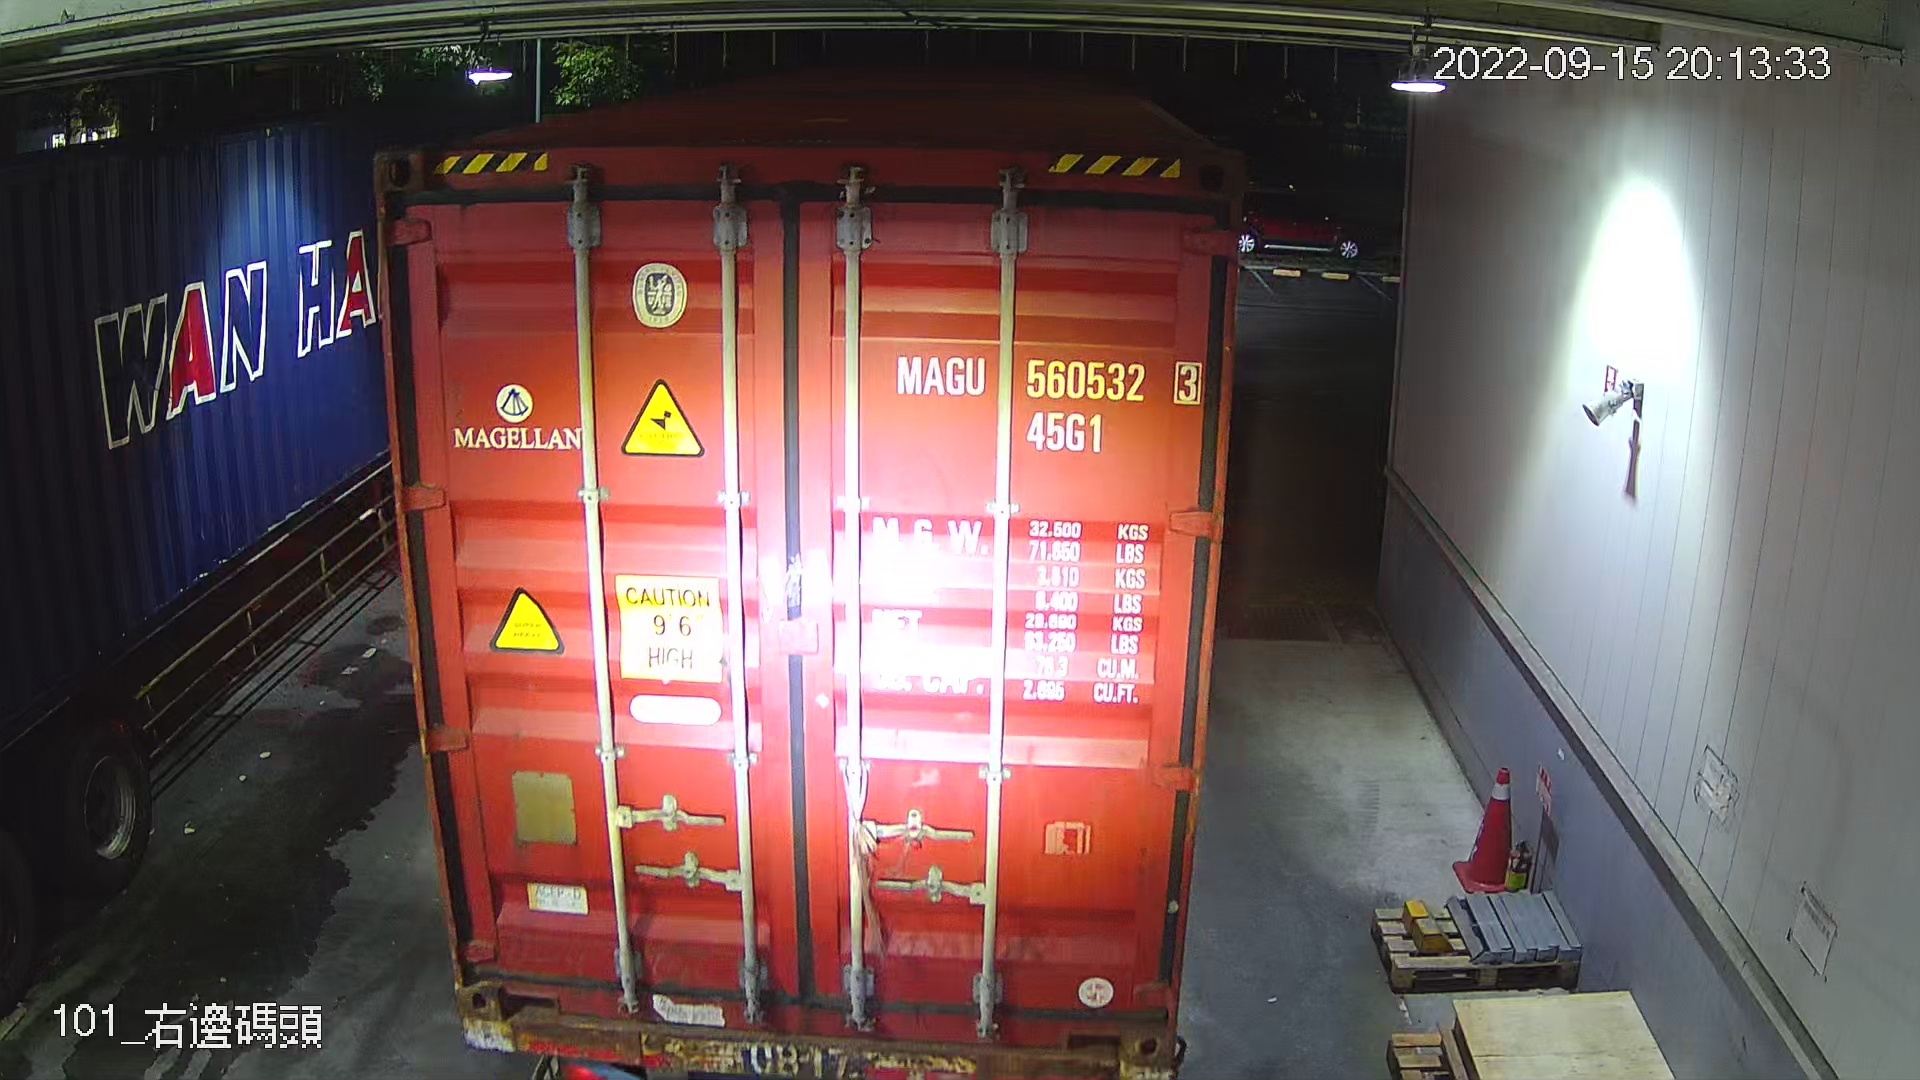container: (878, 334, 1213, 463)
